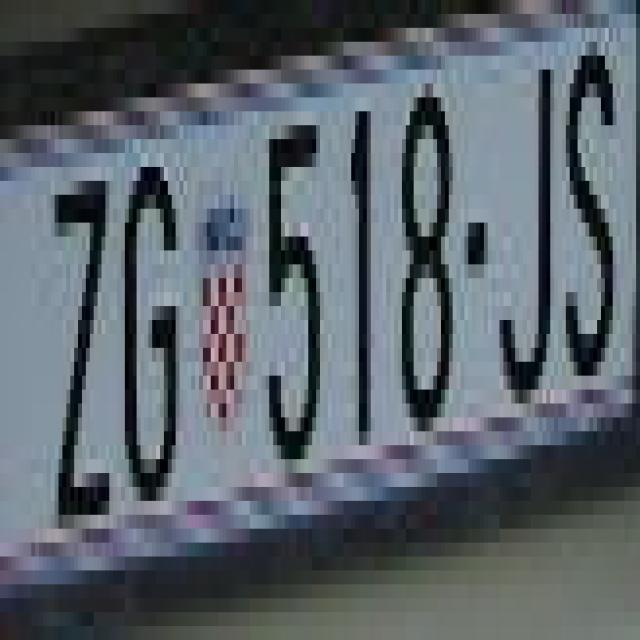1: (348, 111, 387, 432)
5: (254, 84, 324, 473)
8: (390, 70, 453, 431)
G: (129, 153, 179, 487)
S: (562, 28, 617, 376)
Z: (43, 167, 113, 501)
